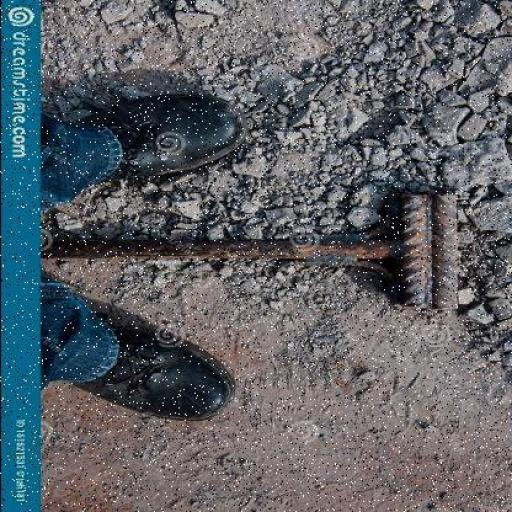safety_shoe: (67, 92, 242, 202), (50, 330, 233, 416)
